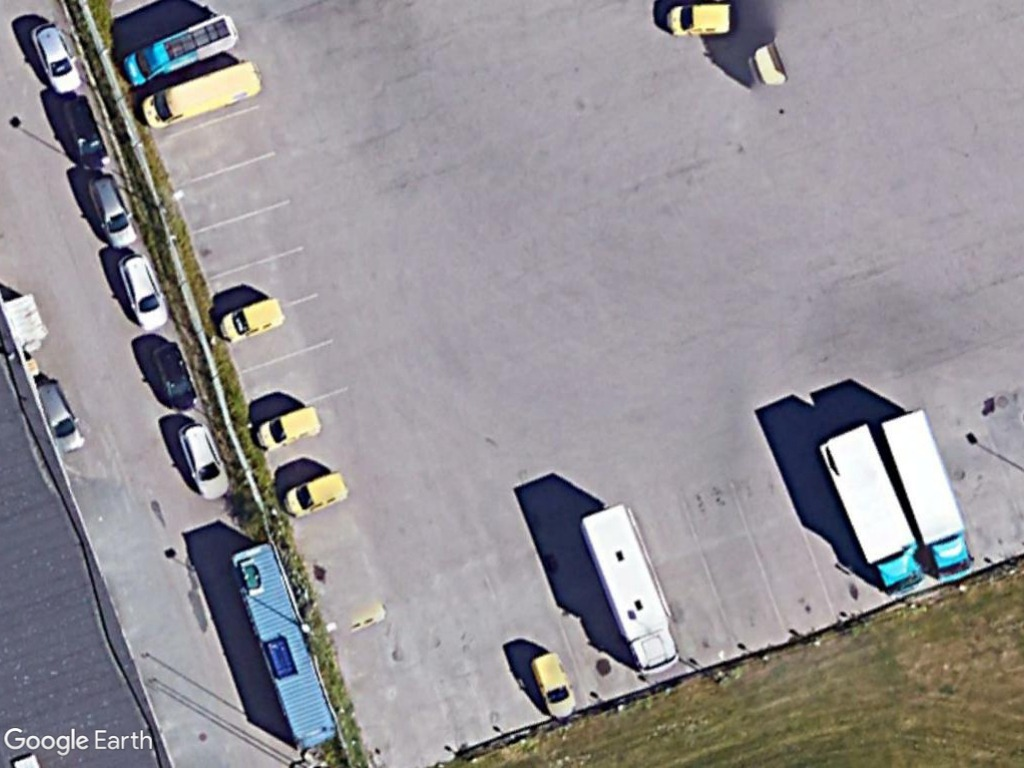car: (172, 420, 237, 505), (114, 245, 171, 334), (86, 168, 143, 252), (27, 18, 85, 95), (147, 339, 204, 415), (527, 645, 581, 722), (250, 402, 325, 457), (280, 466, 352, 522), (217, 292, 288, 347), (63, 91, 111, 171)
truck: (819, 419, 928, 598), (873, 400, 976, 587), (580, 506, 686, 679)
van: (138, 57, 267, 134), (124, 11, 245, 87)
